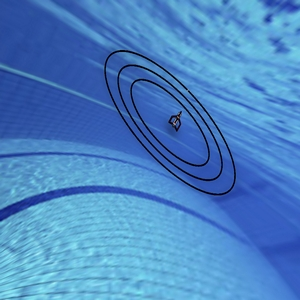circle: (94, 37, 248, 209)
submarine: (159, 102, 190, 136)
